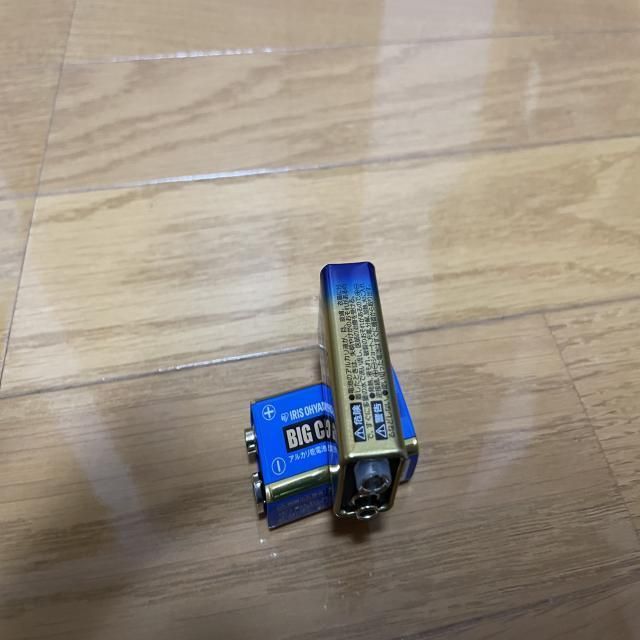9V: (245, 366, 420, 535), (317, 260, 405, 524)
